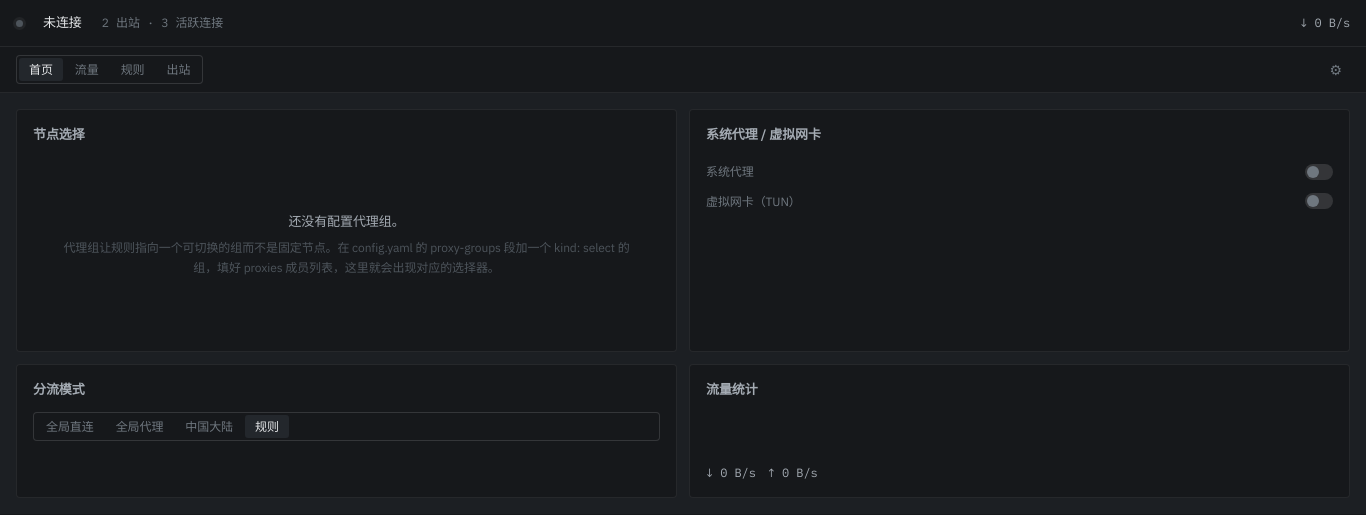
Scenario: 组装：规则视图与热度 › 规则的启停如实报「这条路走不通」，不做一个切不动的假开关
Click the 1st radio button labelled "规则".
click(133, 70)  # box [111, 58, 154, 81]
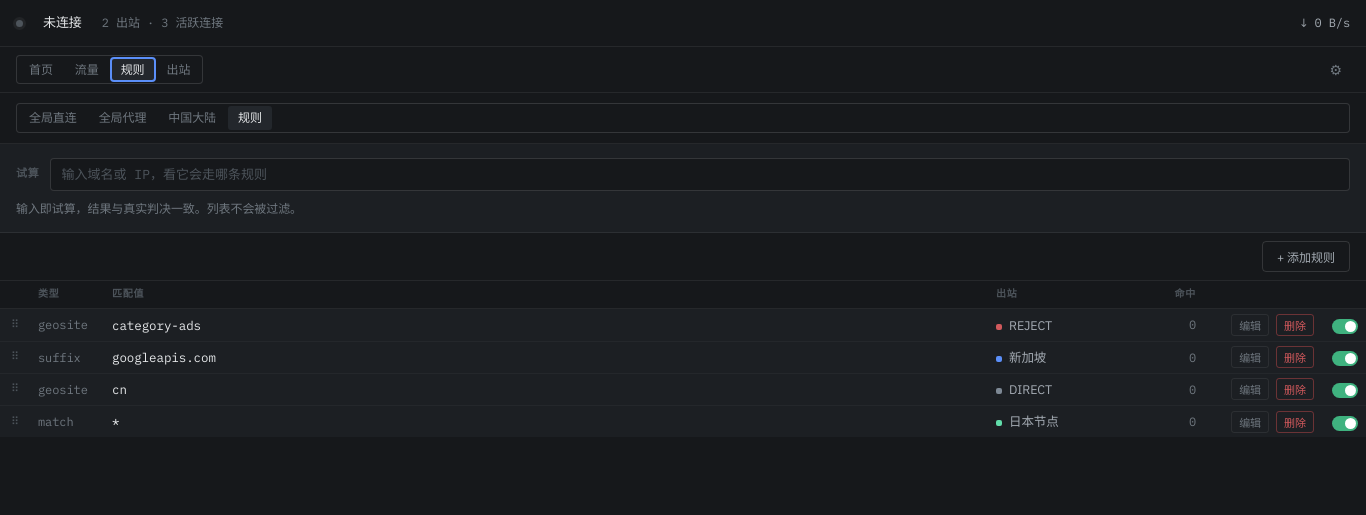
Click the switch named "启用规则 geosite category-ads".
click(1345, 327)  # box [1332, 319, 1358, 334]
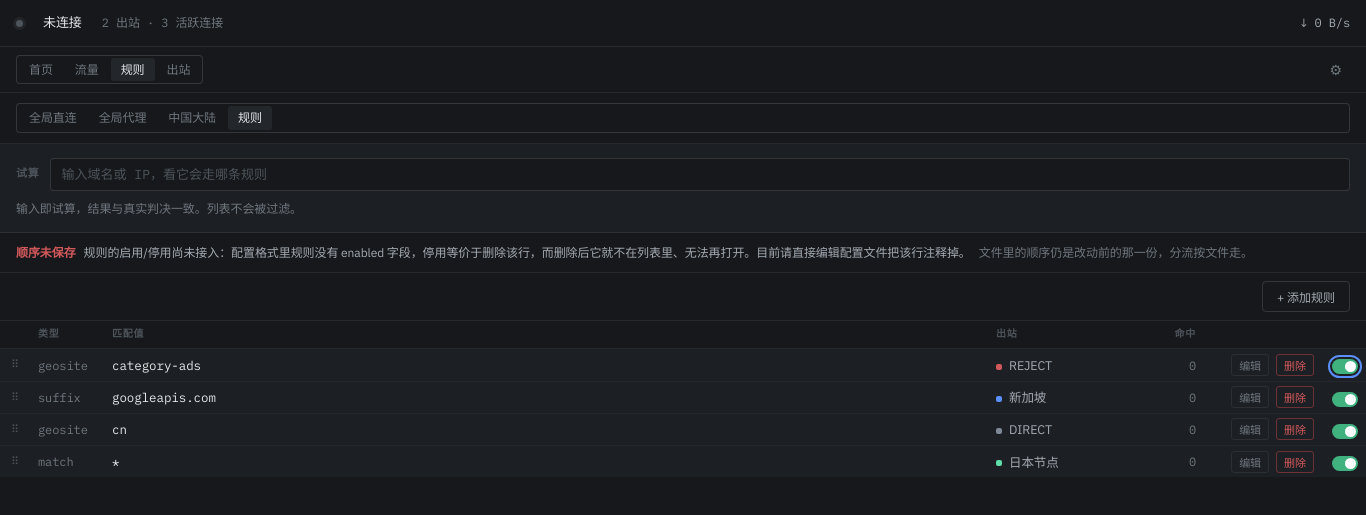
Result: the text "顺序未保存" is shown at [16, 243, 76, 262]
Result: the text "没有 enabled 字段" is shown at [84, 245, 971, 260]
